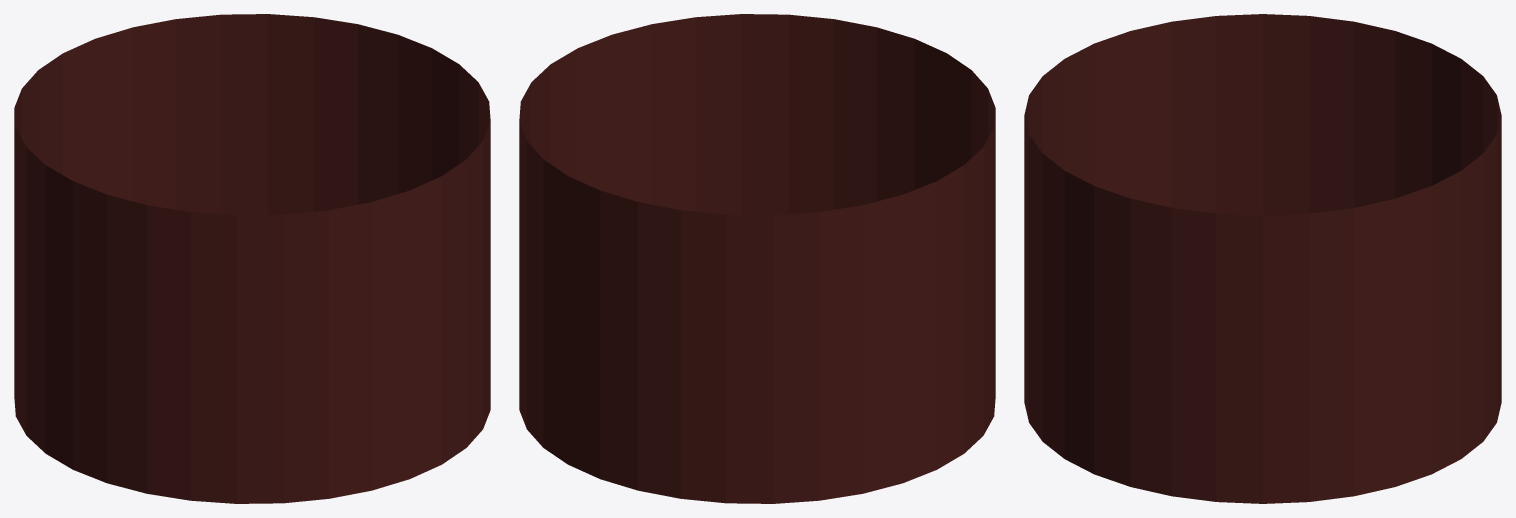
Rendered from PoolTable.fbx_PoolTablePocket.fbx.
The picture shows the model from 3 angles, left to right: view 1: azimuth 30°, elevation 25°; view 2: azimuth 150°, elevation 25°; view 3: azimuth 270°, elevation 25°; orthographic projection.
Visible parts, largest first — view 1: PoolTablePocket; view 2: PoolTablePocket; view 3: PoolTablePocket.
Part boxes in pixels (box(x1,y1,x2,y2)): PoolTablePocket: box(14, 14, 490, 503); PoolTablePocket: box(519, 14, 995, 503); PoolTablePocket: box(1024, 14, 1501, 503).
Size of the model in its own units: 1.5 by 1 by 1.5.
